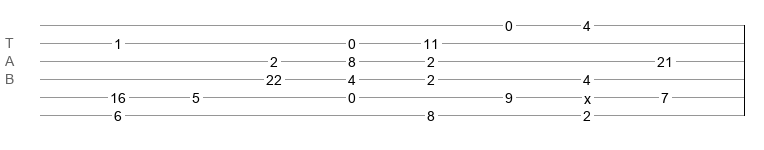0: (348, 90, 356, 100), (348, 36, 356, 46), (505, 18, 513, 28)
1: (114, 36, 122, 46)
11: (423, 36, 439, 46)
16: (110, 90, 126, 100)
2: (270, 54, 278, 64), (427, 72, 435, 82), (427, 54, 435, 64), (583, 108, 591, 118)
21: (657, 54, 673, 64)
22: (266, 72, 282, 82)
4: (348, 72, 356, 82), (583, 72, 591, 82), (583, 18, 591, 28)
5: (192, 90, 200, 100)
6: (114, 108, 122, 118)
7: (661, 90, 669, 100)
8: (348, 54, 356, 64), (427, 108, 435, 118)
9: (505, 90, 513, 100)
x: (584, 91, 591, 99)
